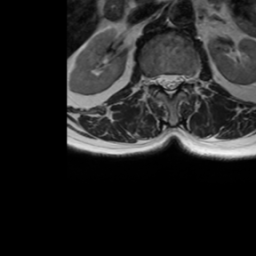CCS_normal: (164, 66, 173, 103)
LFS_normal: (183, 65, 191, 91)
LLS_normal: (173, 66, 183, 93)
RFS_normal: (148, 67, 155, 91)
RLS_normal: (155, 66, 164, 93)
